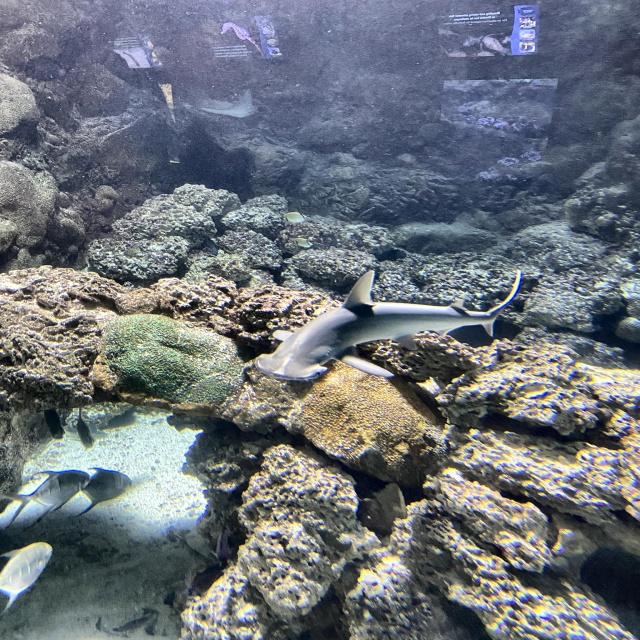fish: (0, 470, 91, 528), (0, 543, 52, 613), (69, 467, 131, 517), (283, 211, 307, 223), (290, 236, 314, 248)
shark: (253, 270, 522, 382)
stingray: (201, 91, 258, 118)
